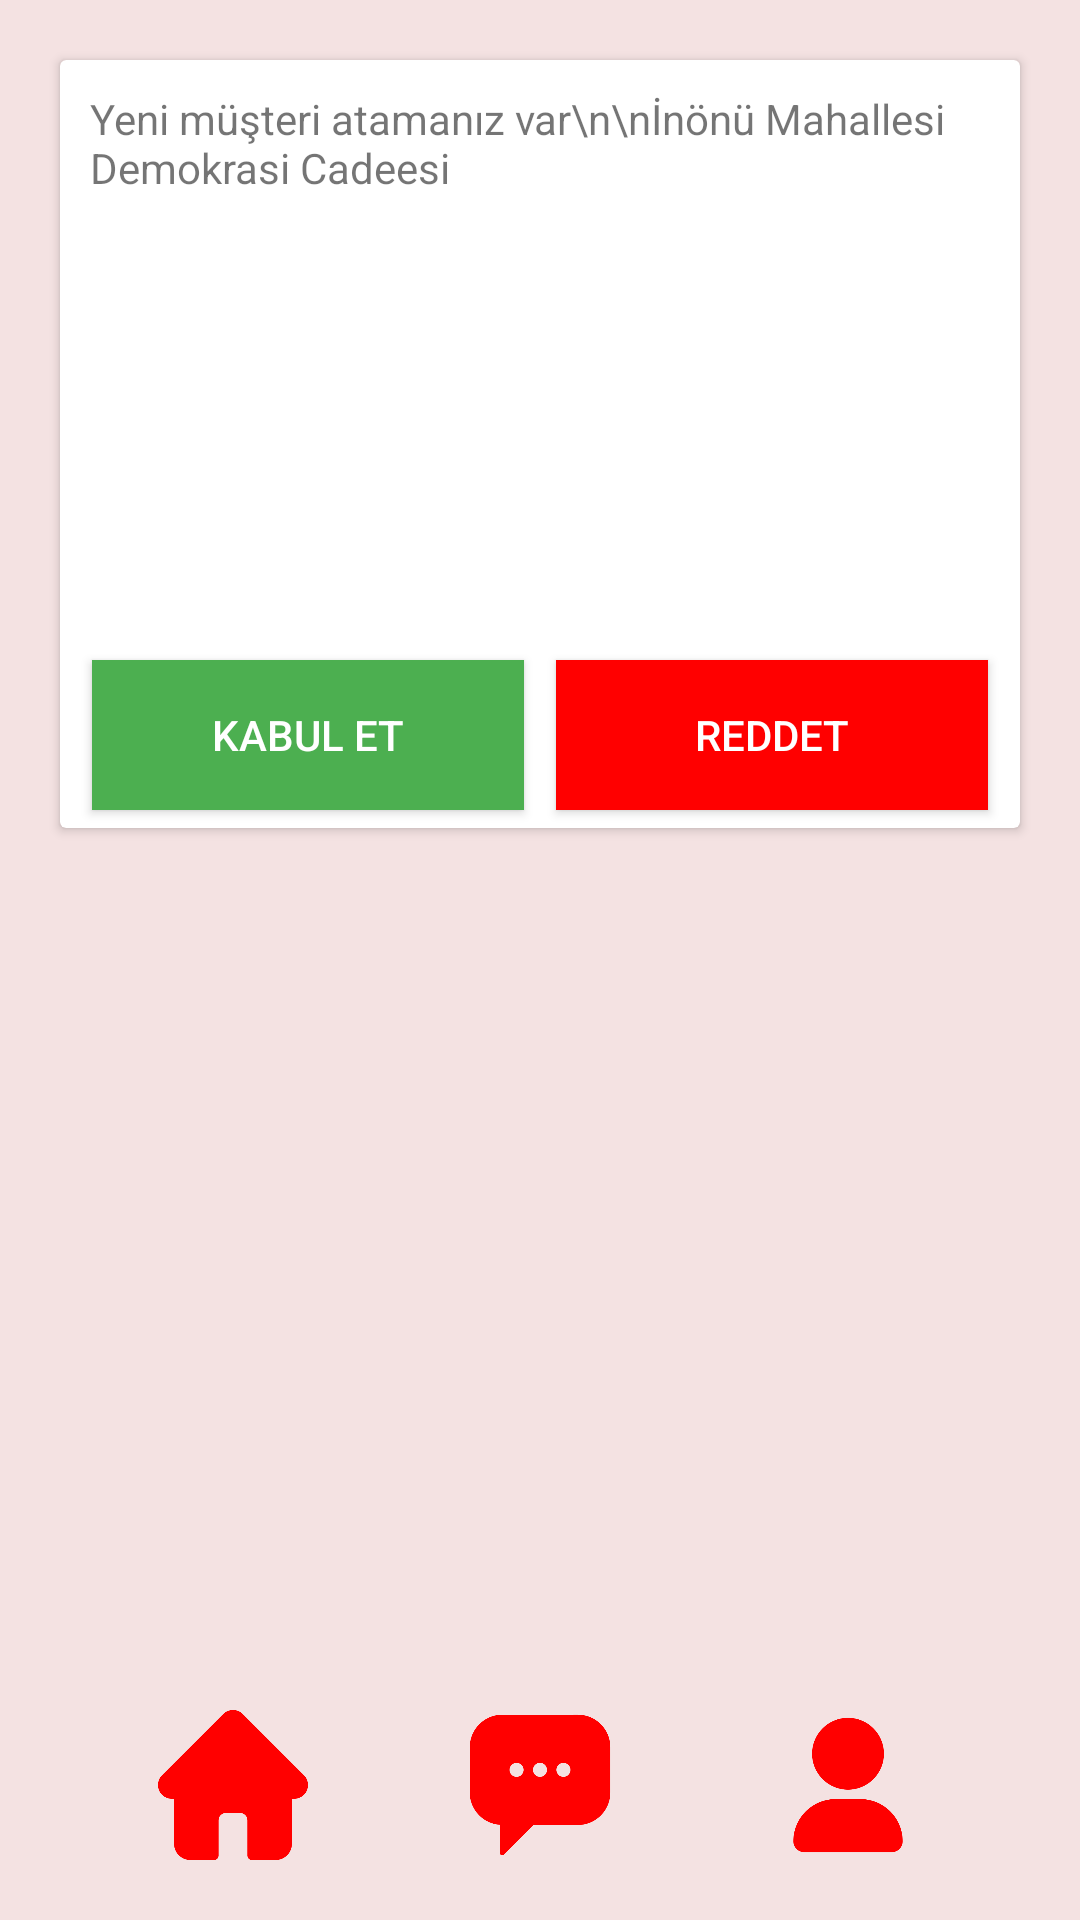

Locate icon controls on the screen. Image size 1080*1920, boxes as {"left": x1, "top": y1, "right": x2, "bottom": y2}.
chat: {"left": 470, "top": 1715, "right": 610, "bottom": 1855}
home: {"left": 158, "top": 1710, "right": 308, "bottom": 1860}
profile: {"left": 793, "top": 1718, "right": 903, "bottom": 1852}
